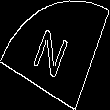N_SW: (33, 24, 77, 86)
